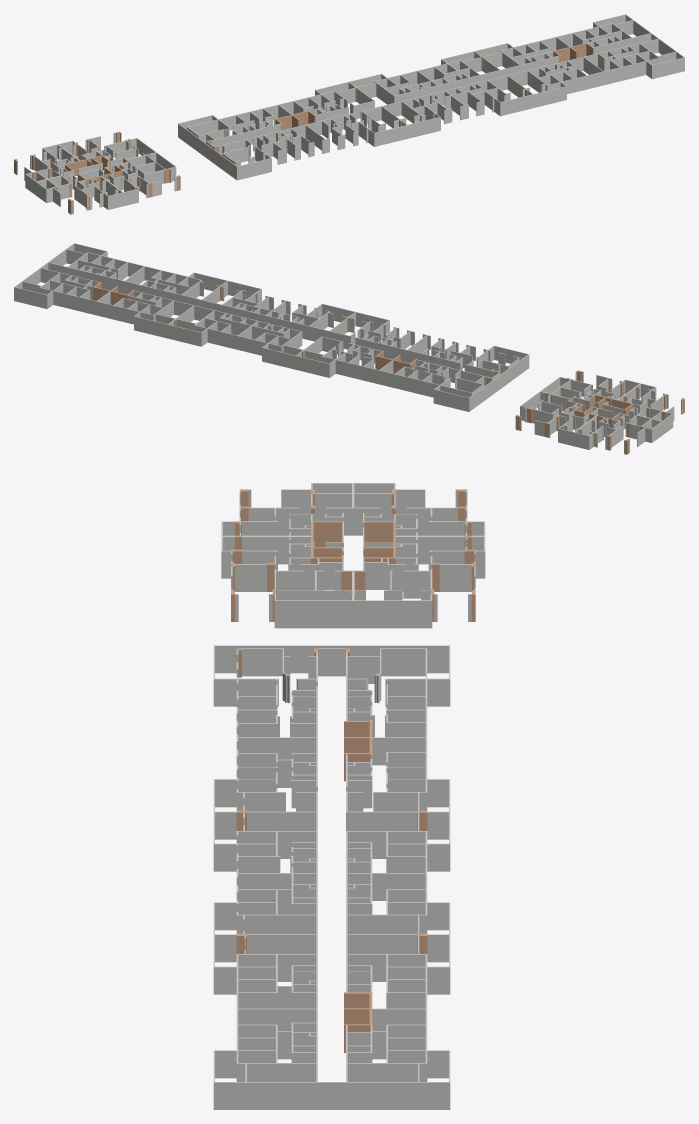
File: kaynak-06-plan.glb
The picture shows the model from 3 angles, top to bottom: view 1: azimuth 30°, elevation 25°; view 2: azimuth 150°, elevation 25°; view 3: azimuth 270°, elevation 25°; orthographic projection. The views are drawn at different scales.
Visible parts, largest first — view 1: architecture::Kaynak birinci kat planı::web_batch_dadbd5, structural::Kaynak birinci kat planı::web_batch_b06d44; view 2: architecture::Kaynak birinci kat planı::web_batch_dadbd5, structural::Kaynak birinci kat planı::web_batch_b06d44; view 3: architecture::Kaynak birinci kat planı::web_batch_dadbd5, structural::Kaynak birinci kat planı::web_batch_b06d44.
Part boxes in pixels (<box>): architecture::Kaynak birinci kat planı::web_batch_dadbd5: <box>16,14,684,213</box>; structural::Kaynak birinci kat planı::web_batch_b06d44: <box>14,43,593,214</box>; architecture::Kaynak birinci kat planı::web_batch_dadbd5: <box>14,243,682,454</box>; structural::Kaynak birinci kat planı::web_batch_b06d44: <box>93,282,684,454</box>; architecture::Kaynak birinci kat planı::web_batch_dadbd5: <box>213,483,485,1109</box>; structural::Kaynak birinci kat planı::web_batch_b06d44: <box>231,489,475,1052</box>.
Size of the model in its own units: 141 by 3 by 26.97.
